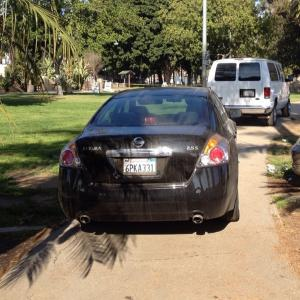Vehicle-registration-plate: (123, 159, 158, 178), (244, 92, 255, 97)
